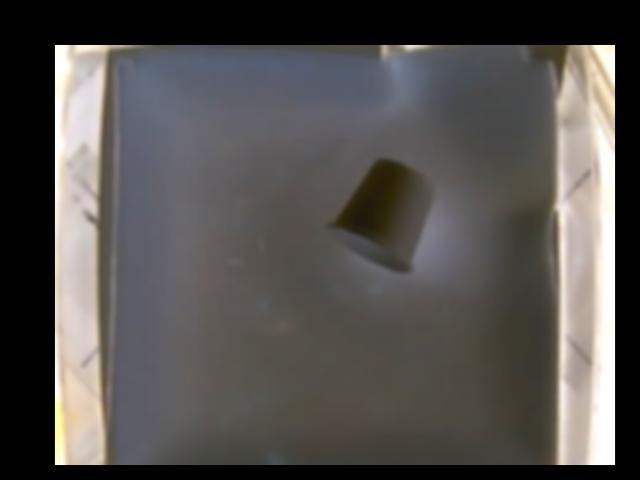Cup: (327, 159, 435, 272)
